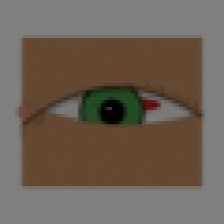hemorrhage_spot: (73, 65, 174, 145)
